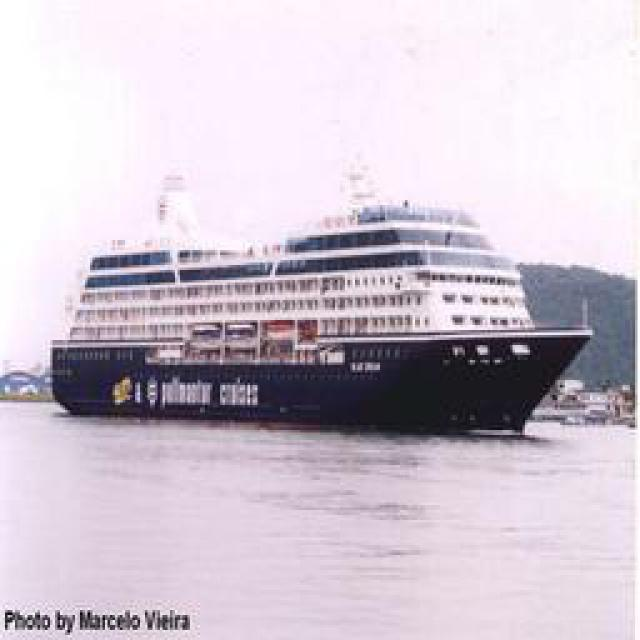Ship: (57, 199, 590, 434)
